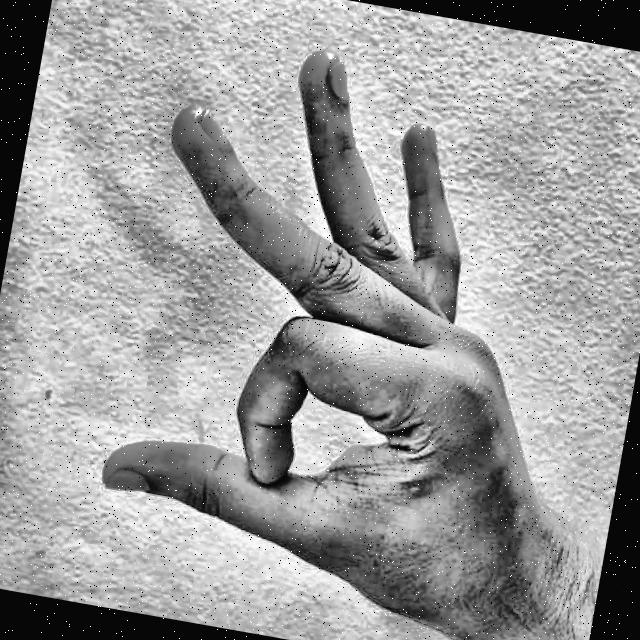Uo: (47, 0, 628, 640)
